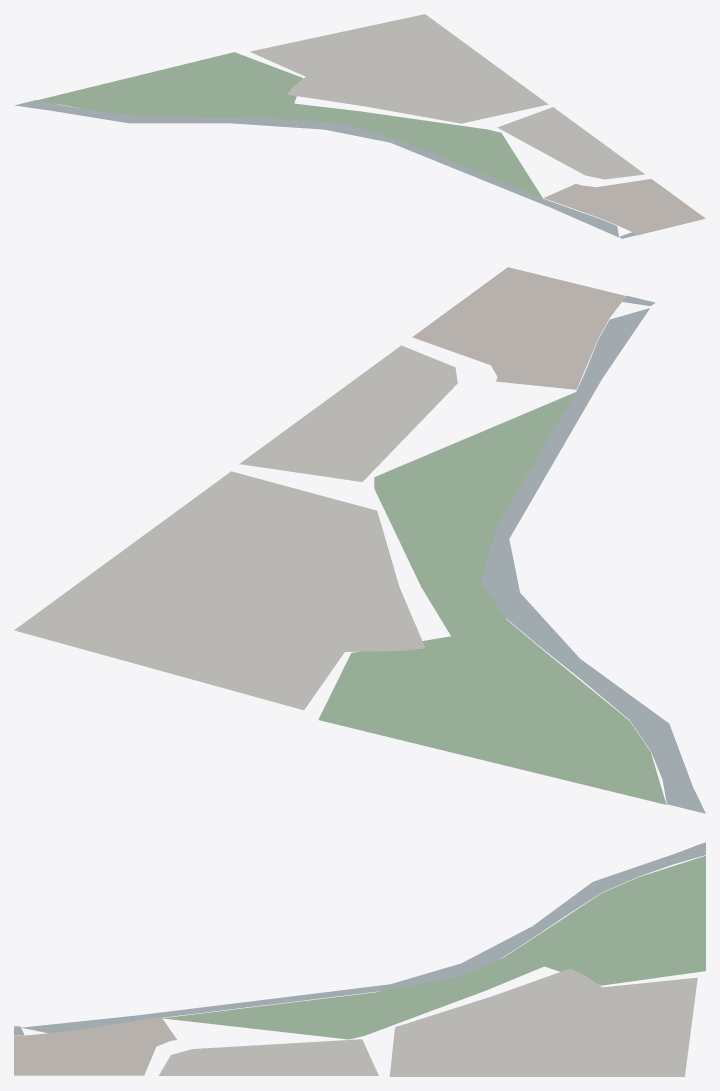
The model's file is 97_99_mid.glb.
The picture shows the model from 3 angles, top to bottom: view 1: azimuth 30°, elevation 25°; view 2: azimuth 150°, elevation 25°; view 3: azimuth 270°, elevation 25°; orthographic projection. The views are drawn at different scales.
Bounding box in the file's own units: 401 × 1.33 × 500.
